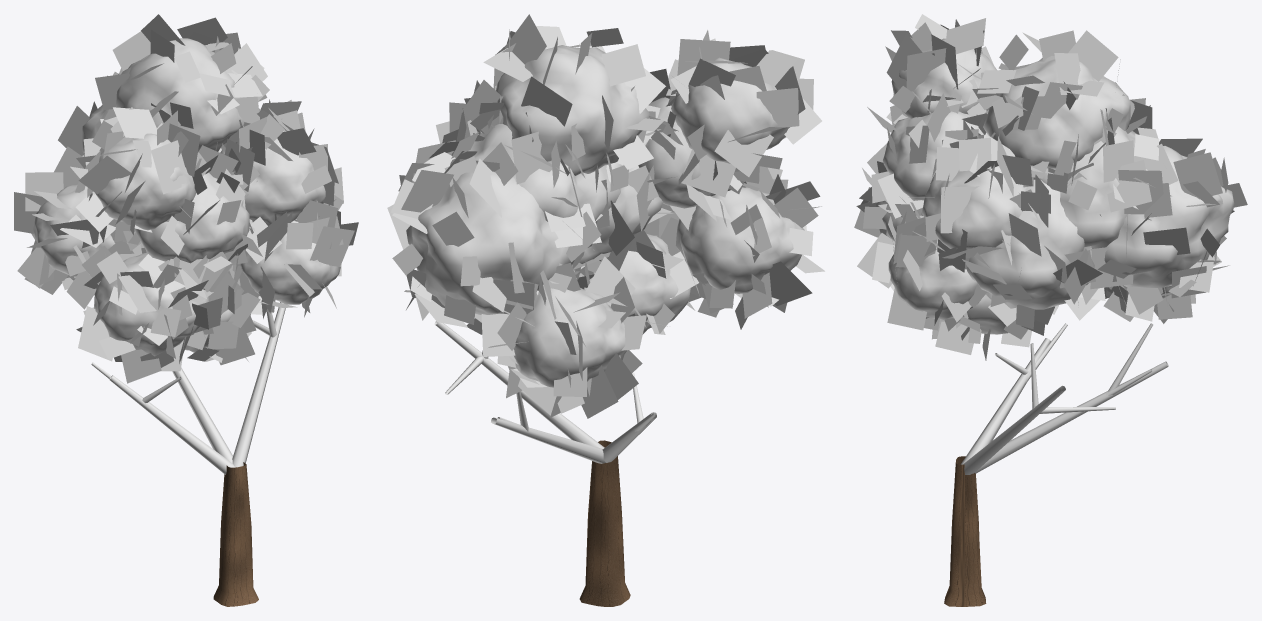
Rendered from peach_tree_b.dae.
The picture shows the model from 3 angles, left to right: view 1: azimuth 30°, elevation 25°; view 2: azimuth 150°, elevation 25°; view 3: azimuth 270°, elevation 25°; orthographic projection. The views are drawn at different scales.
Parts seen in each view (by area): view 1: canopy.001, branches.001, trunk.001, leaf_card.770, leaf_card.768, leaf_card.814, leaf_card.650, leaf_card.760, leaf_card.1104, leaf_card.952, leaf_card.1173, leaf_card.848 (+34 smaller); view 2: canopy.001, trunk.001, branches.001, leaf_card.1071, leaf_card.720, leaf_card.882, leaf_card.697, leaf_card.693, leaf_card.969, leaf_card.1022, leaf_card.952, leaf_card.760 (+28 smaller); view 3: canopy.001, branches.001, trunk.001, leaf_card.1071, leaf_card.1046, leaf_card.1197, leaf_card.815, leaf_card.1176, leaf_card.1088, leaf_card.814, leaf_card.925, leaf_card.840 (+27 smaller).
Boxes of the visible parts, x1,y1,x2,y2 form: canopy.001: [33, 38, 340, 356]; branches.001: [91, 302, 285, 474]; trunk.001: [213, 462, 258, 606]; leaf_card.770: [310, 226, 354, 266]; leaf_card.768: [151, 140, 189, 194]; leaf_card.814: [113, 107, 157, 138]; leaf_card.650: [25, 172, 63, 211]; leaf_card.760: [78, 306, 112, 361]; leaf_card.1104: [78, 155, 130, 194]; leaf_card.952: [112, 31, 150, 70]; leaf_card.1173: [121, 349, 161, 383]; leaf_card.848: [58, 106, 89, 156]; canopy.001: [406, 45, 804, 387]; trunk.001: [579, 440, 630, 606]; branches.001: [434, 321, 656, 463]; leaf_card.1071: [401, 170, 453, 212]; leaf_card.720: [714, 130, 773, 176]; leaf_card.882: [681, 149, 735, 197]; leaf_card.697: [601, 44, 645, 86]; leaf_card.693: [756, 88, 799, 127]; leaf_card.969: [511, 131, 552, 184]; leaf_card.1022: [677, 39, 730, 75]; leaf_card.952: [521, 76, 572, 126]; leaf_card.760: [765, 261, 812, 306]; canopy.001: [876, 38, 1234, 334]; branches.001: [960, 323, 1168, 474]; trunk.001: [944, 456, 986, 606]; leaf_card.1071: [1173, 152, 1222, 199]; leaf_card.1046: [1068, 30, 1118, 81]; leaf_card.1197: [1107, 160, 1151, 212]; leaf_card.815: [940, 186, 979, 233]; leaf_card.1176: [906, 48, 946, 91]; leaf_card.1088: [1118, 170, 1163, 214]; leaf_card.814: [946, 18, 985, 54]; leaf_card.925: [1103, 140, 1133, 182]; leaf_card.840: [958, 137, 991, 171].
Size of the model in its own units: 1.31 by 1.5 by 2.35.
3 materials, 1 textured.
